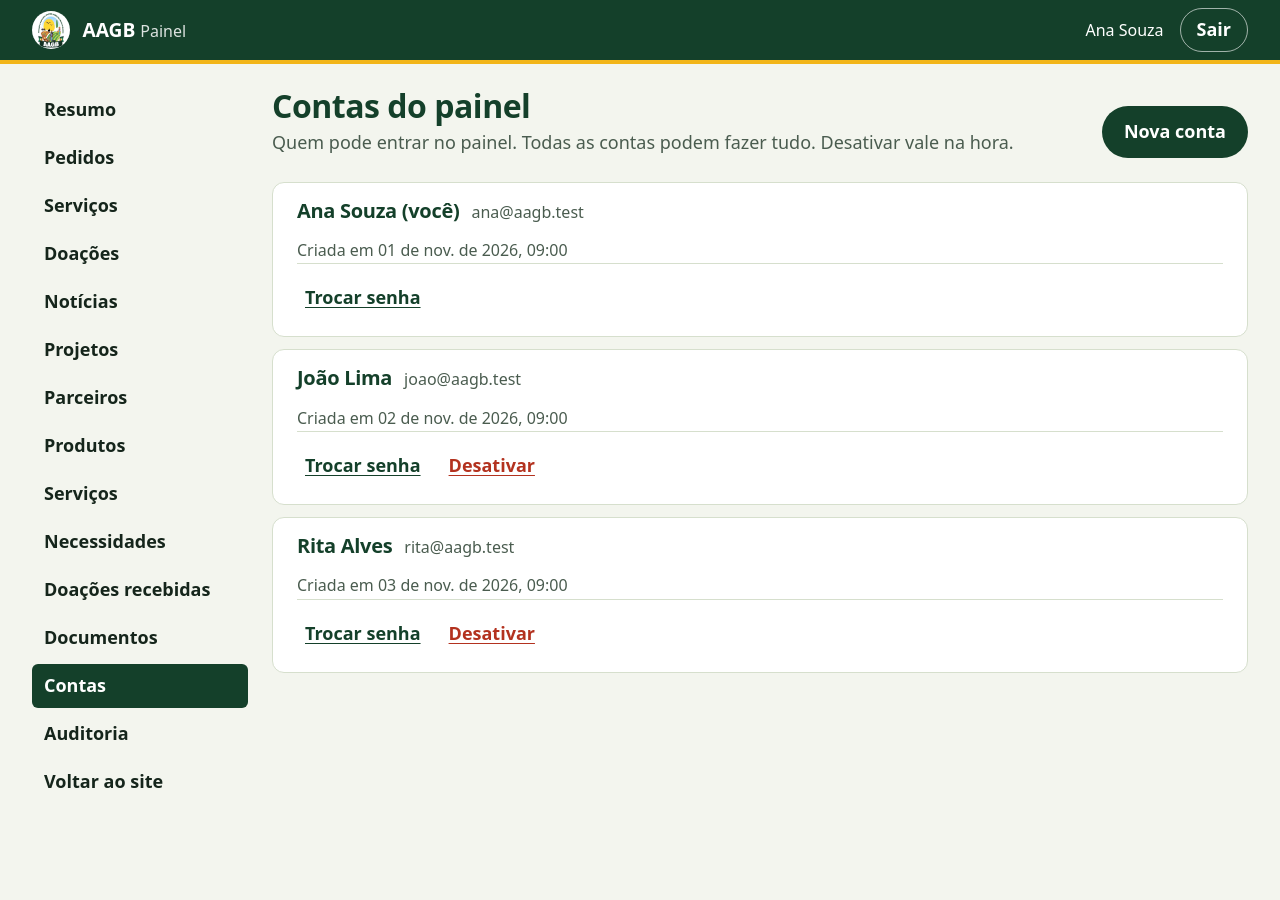
Test: contas: confirmação de senha › senha errada aparece na janela, que continua aberta, sem derrubar a sessão
Click the button named "Desativar João Lima": point(492, 466) [441,444,543,488]
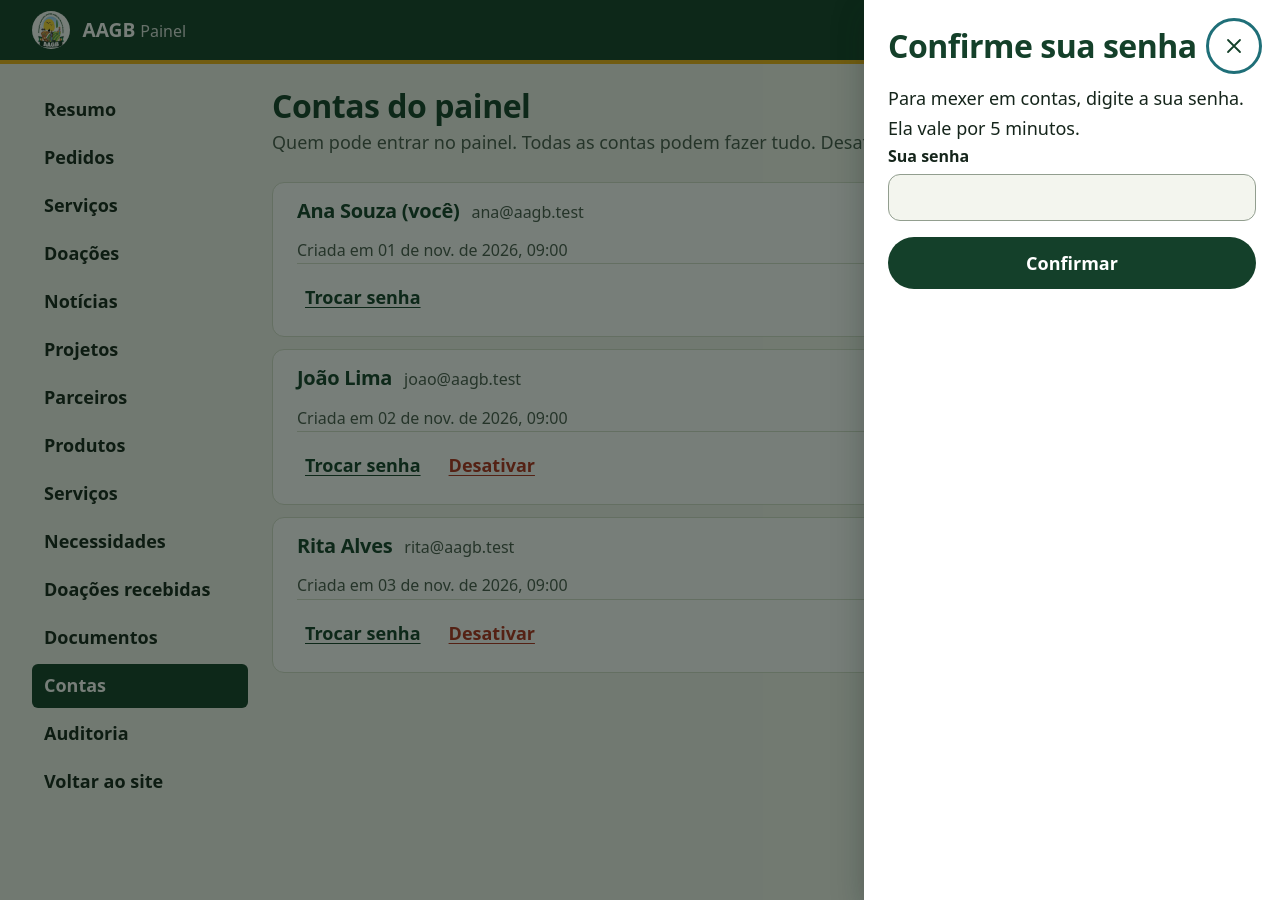
In the password field labelled "Sua senha": point(1072, 198) [888,174,1256,221], type "senha-errada"
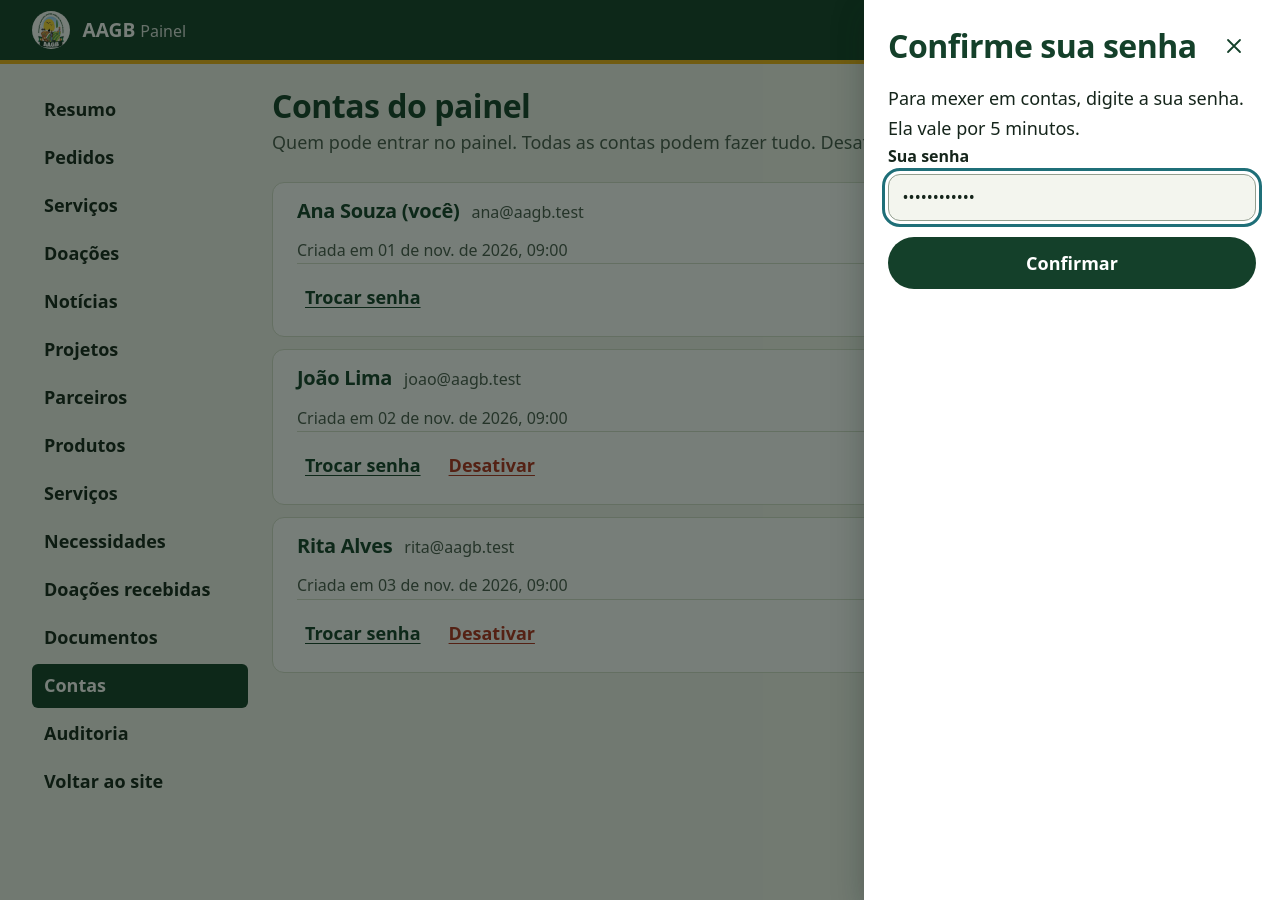
Click the button "Confirmar": point(1072, 263) [888,237,1256,289]
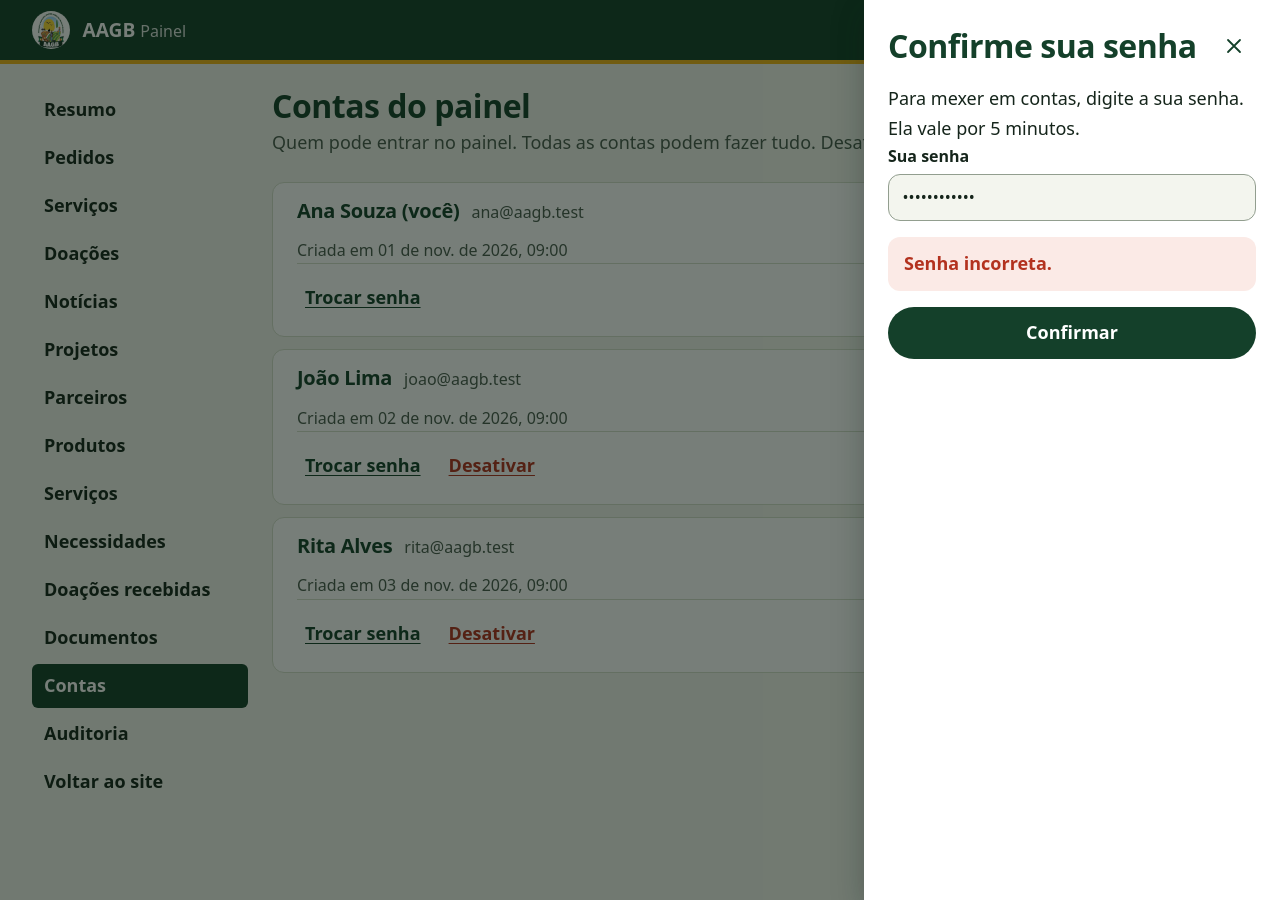
expect the dialog "Confirme sua senha" is shown: met, box [864,0,1279,899]
expect the text "Senha incorreta." is shown: met, box [888,237,1256,291]
